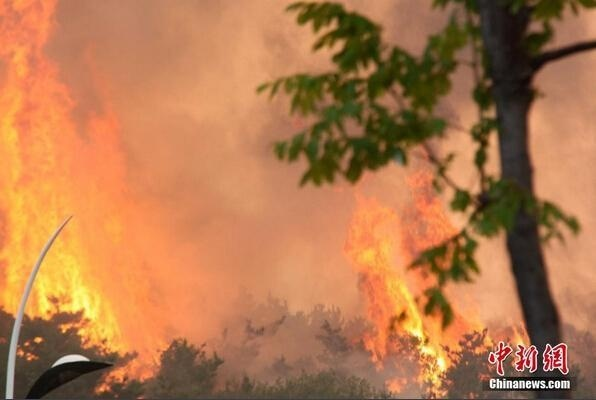fire: (1, 9, 140, 370), (345, 167, 485, 387)
